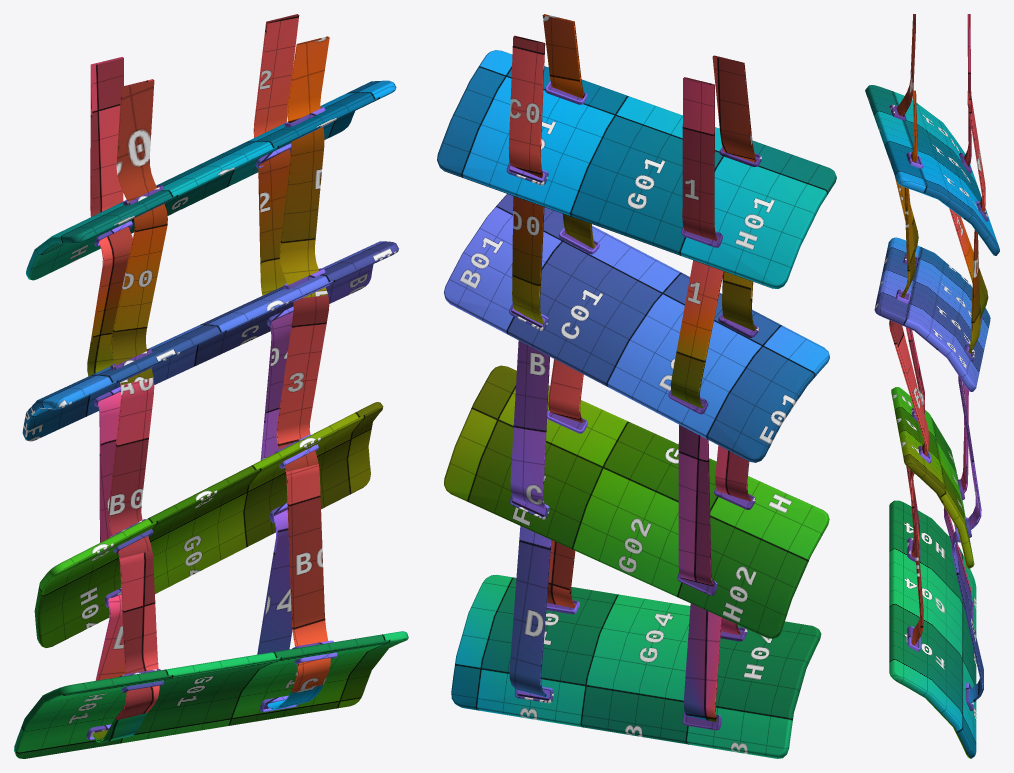
File: RightPanel_GA.fbx
The picture shows the model from 3 angles, left to right: view 1: azimuth 30°, elevation 25°; view 2: azimuth 150°, elevation 25°; view 3: azimuth 270°, elevation 25°; orthographic projection. The views are drawn at different scales.
Visible parts, largest first — view 1: PanelRight_GA; view 2: PanelRight_GA; view 3: PanelRight_GA.
Part boxes in pixels (box(x1,y1,x2,y2)): PanelRight_GA: box(14, 14, 408, 758); PanelRight_GA: box(437, 14, 836, 758); PanelRight_GA: box(865, 14, 999, 758).
Bounding box in the file's own units: 82.13 × 155 × 30.04.
